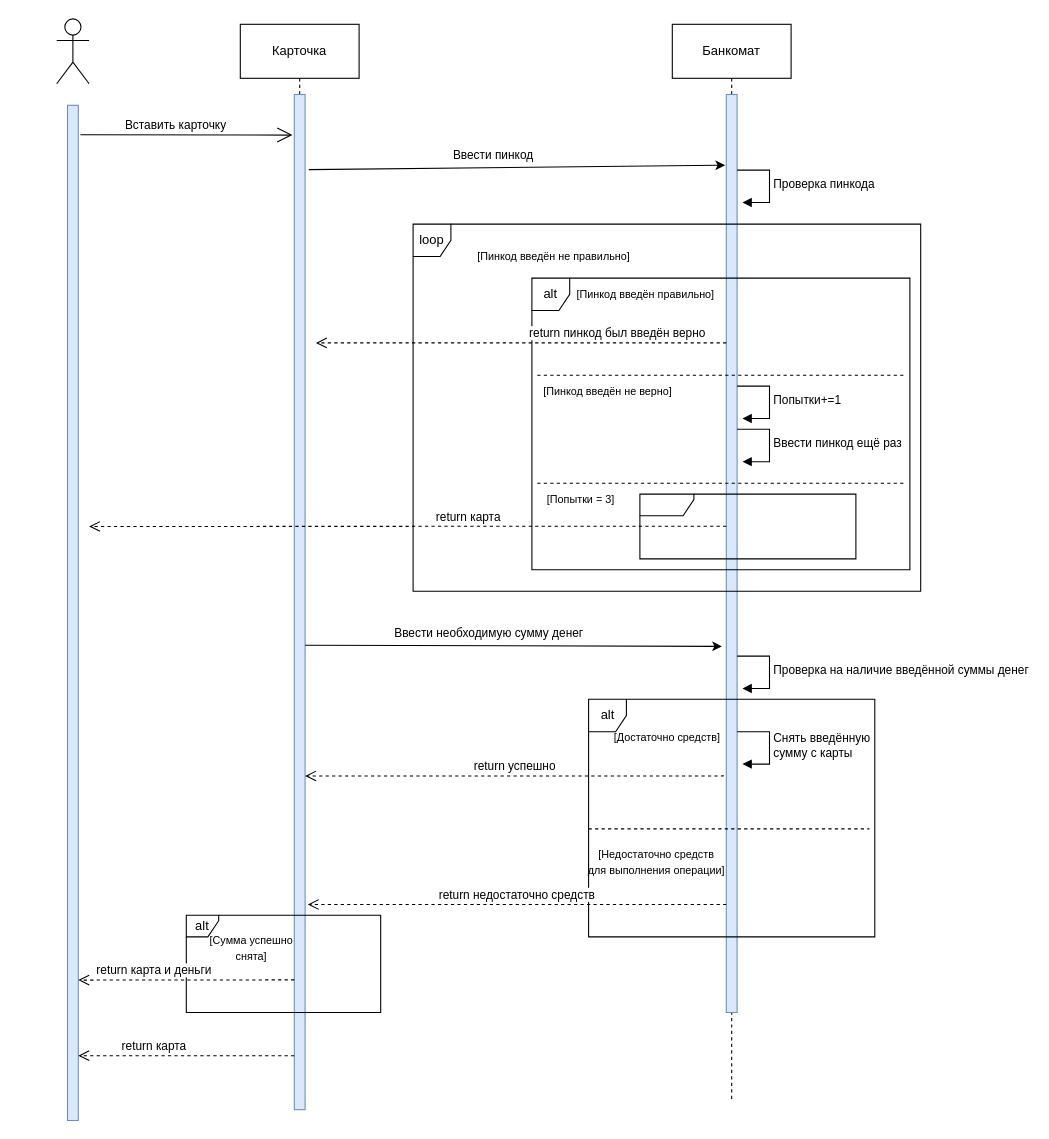
The diagram is 1049 pixels wide and 1139 high, and some of its shapes have lost their labels. The shapes that lost their labels are listed below. From the top down, each one's centre as x and y in pixels, then its label:
the point at 72,51: Клиент банкомата
the point at 747,526: break
